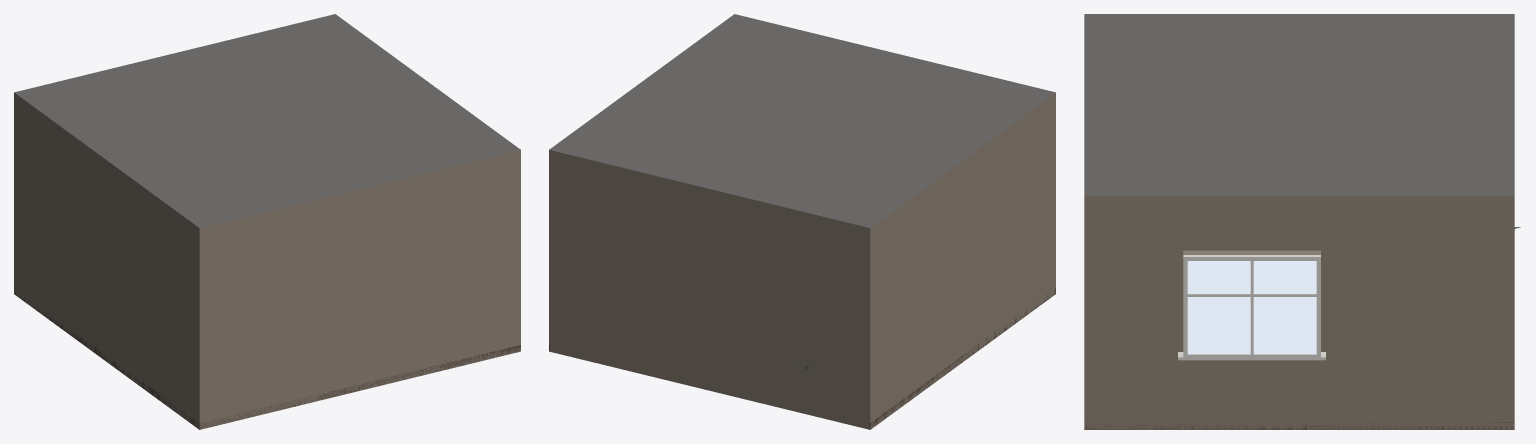
File: studio.glb
3 renders of one model, left to right at view 1: azimuth 30°, elevation 25°; view 2: azimuth 150°, elevation 25°; view 3: azimuth 270°, elevation 25°, orthographic. The views are drawn at different scales.
Parts seen in each view (by area): view 1: Walls, Ceiling; view 2: Walls, Ceiling; view 3: Walls, Ceiling, Window, WindowFrame.
Part boxes in pixels (x1,y1,x2,y2): Walls: (14, 92, 520, 429); Ceiling: (14, 14, 520, 227); Walls: (549, 92, 1055, 429); Ceiling: (549, 14, 1055, 227); Walls: (1084, 196, 1514, 429); Ceiling: (1084, 14, 1514, 195); Window: (1187, 261, 1316, 354); WindowFrame: (1178, 255, 1325, 360).
Bounding box in the file's own units: 5.18 × 3 × 5.08.
32 materials, 5 textured.
